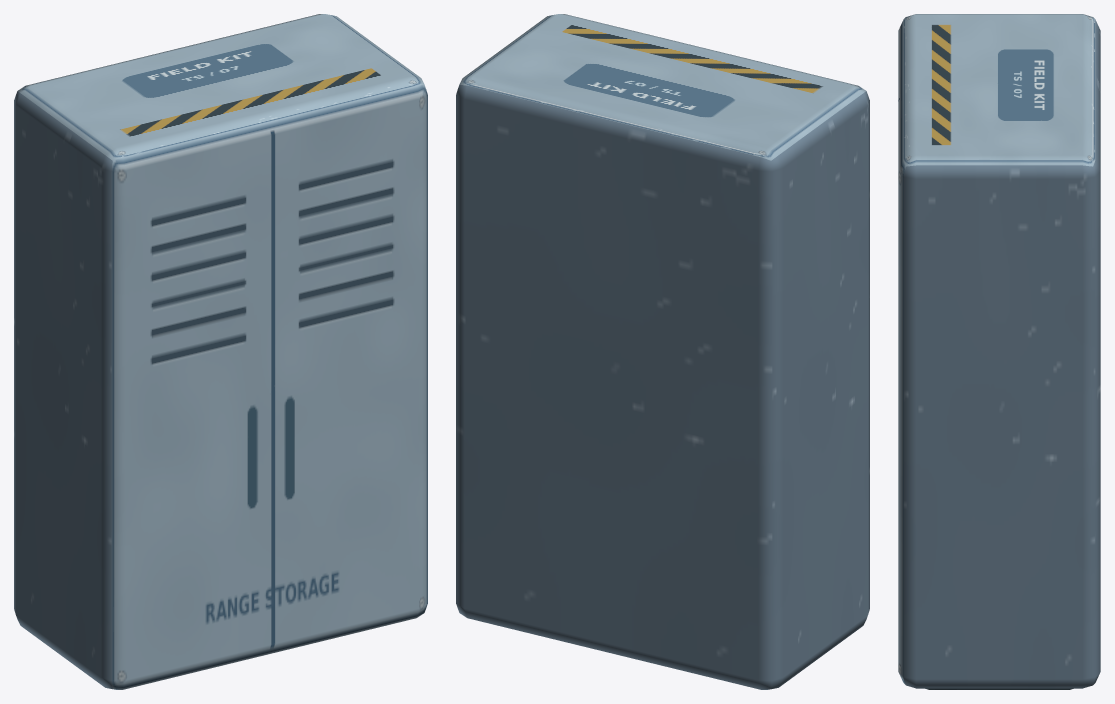
The model's file is SM_StorageCabinet.glb.
3 views of the same model, side by side, from view 1: azimuth 30°, elevation 25°; view 2: azimuth 150°, elevation 25°; view 3: azimuth 270°, elevation 25° (orthographic).
Visible parts, largest first — view 1: SM_StorageCabinet; view 2: SM_StorageCabinet; view 3: SM_StorageCabinet.
Part boxes in pixels (left/top/right/bottom): SM_StorageCabinet: left=14, top=14, right=427, bottom=689; SM_StorageCabinet: left=456, top=14, right=869, bottom=689; SM_StorageCabinet: left=898, top=14, right=1100, bottom=689.
Bounding box in the file's own units: 1.13 × 1.82 × 0.62.
1 material, 1 textured.
